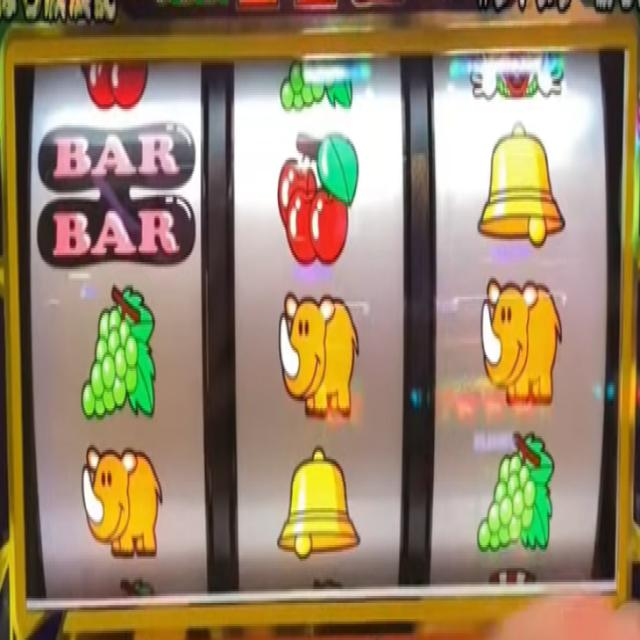bar: (35, 120, 196, 264)
bell: (477, 122, 565, 246), (277, 444, 361, 566)
cherry: (276, 127, 360, 267)
clown: (468, 55, 564, 103)
display: (13, 46, 628, 604), (80, 62, 152, 112)
elephant: (276, 291, 360, 419), (480, 278, 562, 407), (80, 444, 164, 558)
grape: (80, 280, 157, 421), (477, 428, 555, 552), (279, 48, 354, 116)
